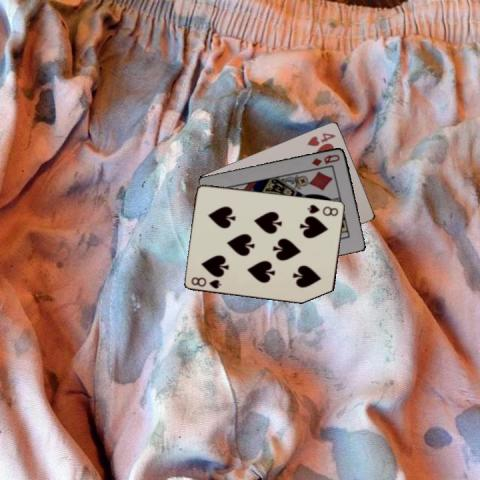4h: (304, 130, 337, 147)
8s: (305, 202, 340, 218), (188, 274, 223, 290)
Qd: (309, 152, 341, 168)
